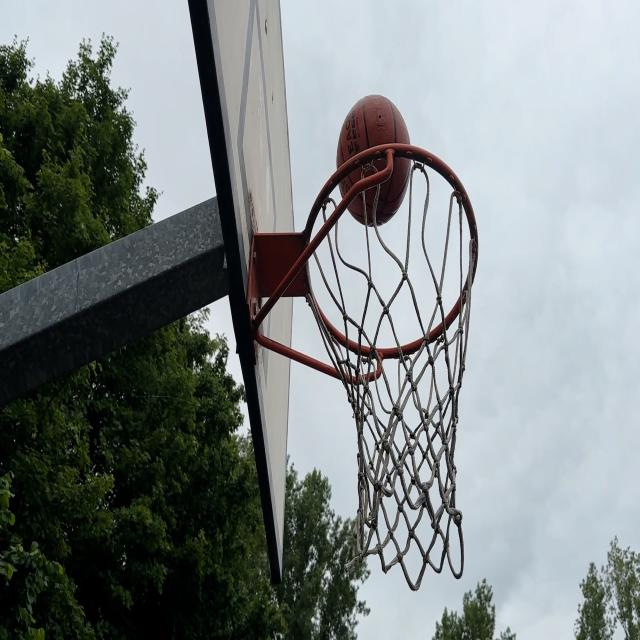rebound_hit: (336, 90, 412, 230)
